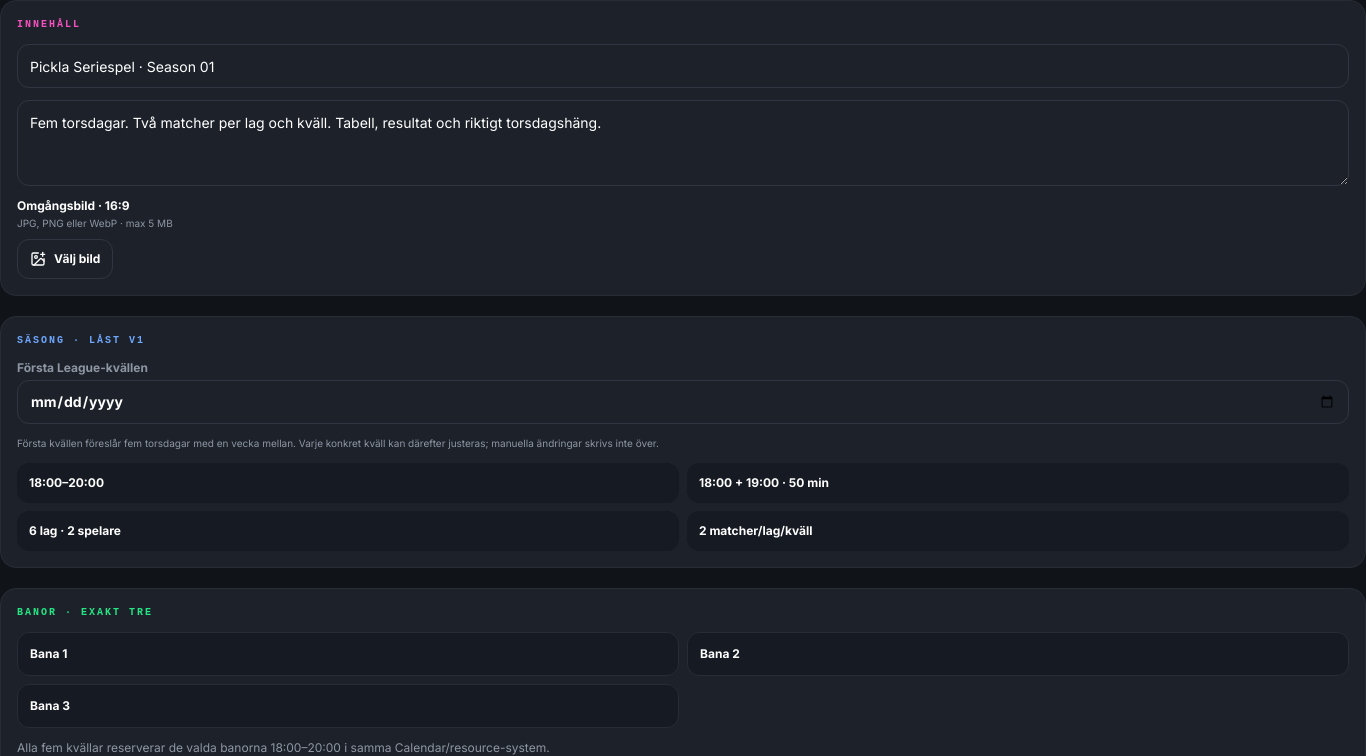
Test: League Admin artwork and date entry › starts with one date, proposes five Stockholm Thursdays, and preserves manual overrides
Expected: the field labelled "Kväll 2" is not shown
Type "2026-09-10" into the date field labelled "Första League-kvällen" at [683, 402], box [17,380,1349,424]
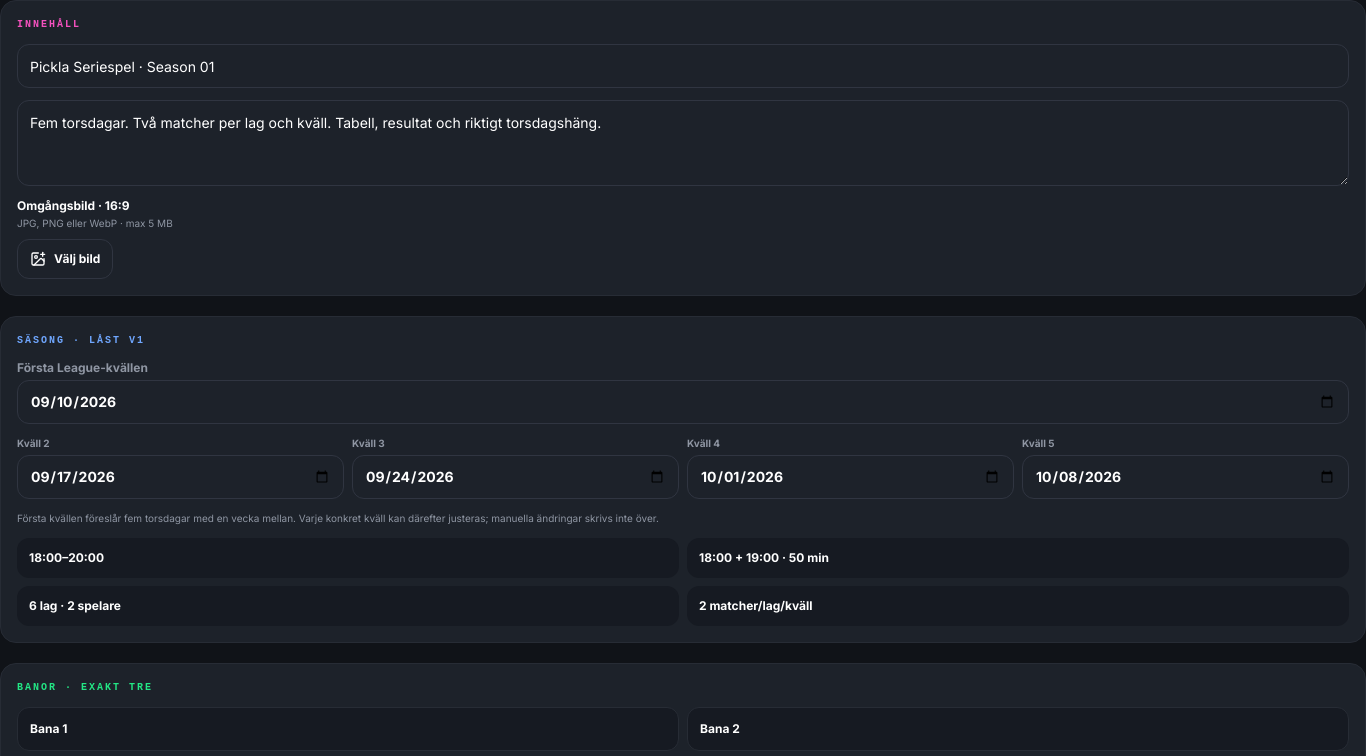
Expected: the date field labelled "Kväll 2" holds "2026-09-17", [17,455,344,499]
Expected: the date field labelled "Kväll 3" holds "2026-09-24", [352,455,679,499]
Expected: the date field labelled "Kväll 4" holds "2026-10-01", [687,455,1014,499]
Type "2026-10-22" into the date field labelled "Kväll 5" at [1186, 477], box [1022,455,1349,499]
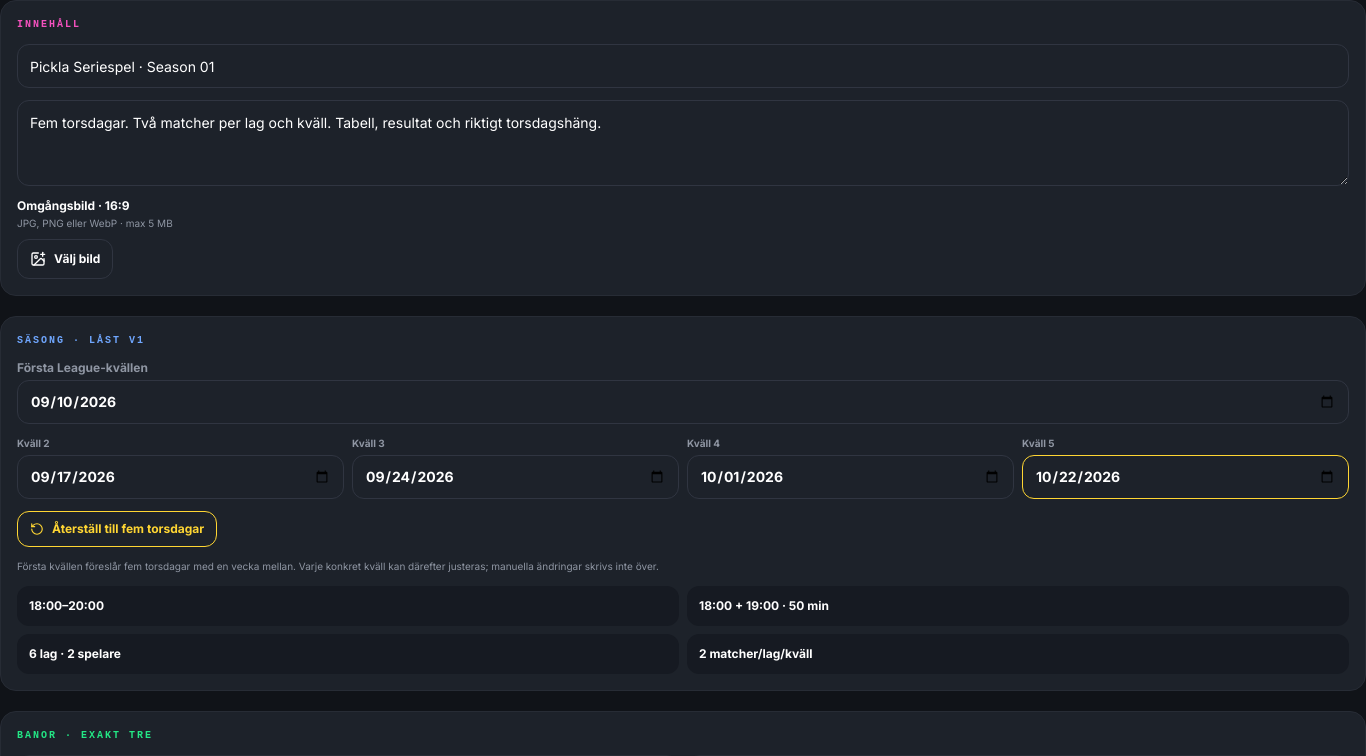
Type "2026-09-17" into the date field labelled "Första League-kvällen" at [683, 402], box [17,380,1349,424]
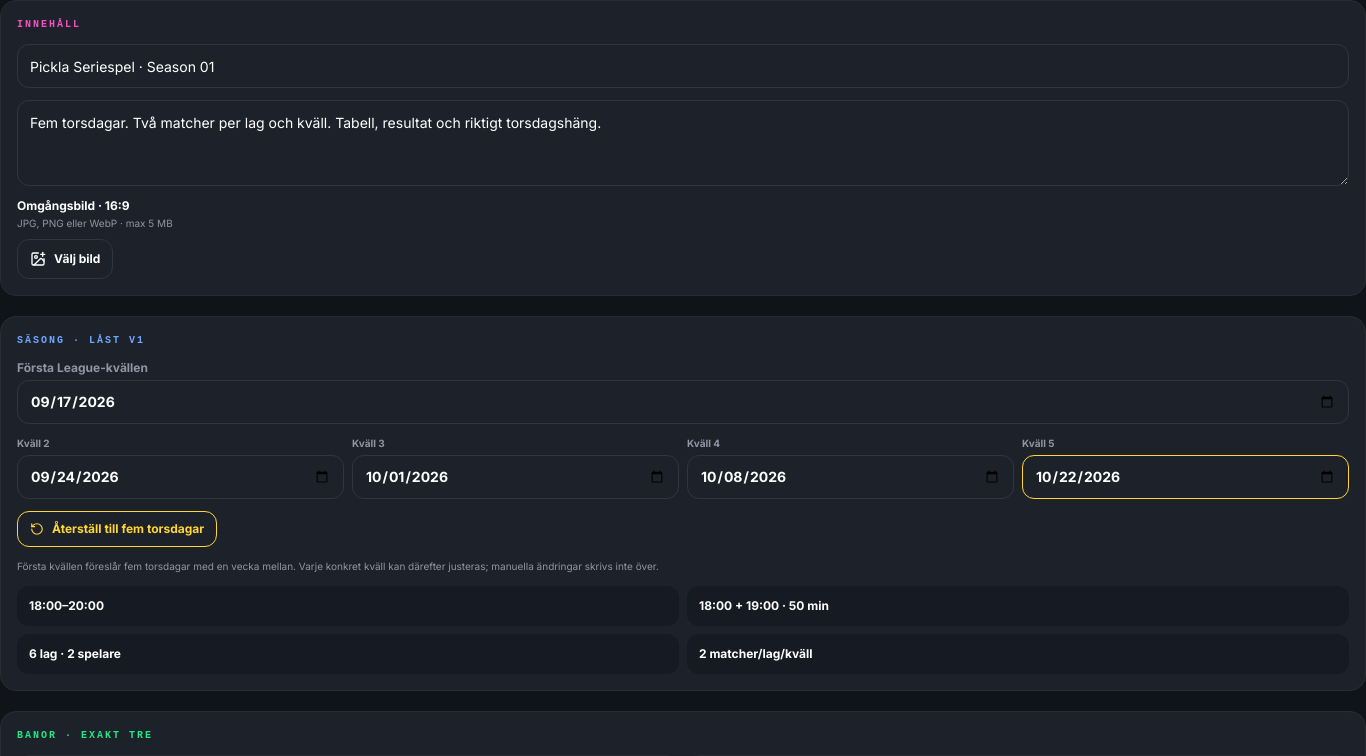
Expected: the date field labelled "Kväll 2" holds "2026-09-24", [17,455,344,499]
Click the button "Återställ till fem torsdagar" at [117, 529], box [17,511,217,547]
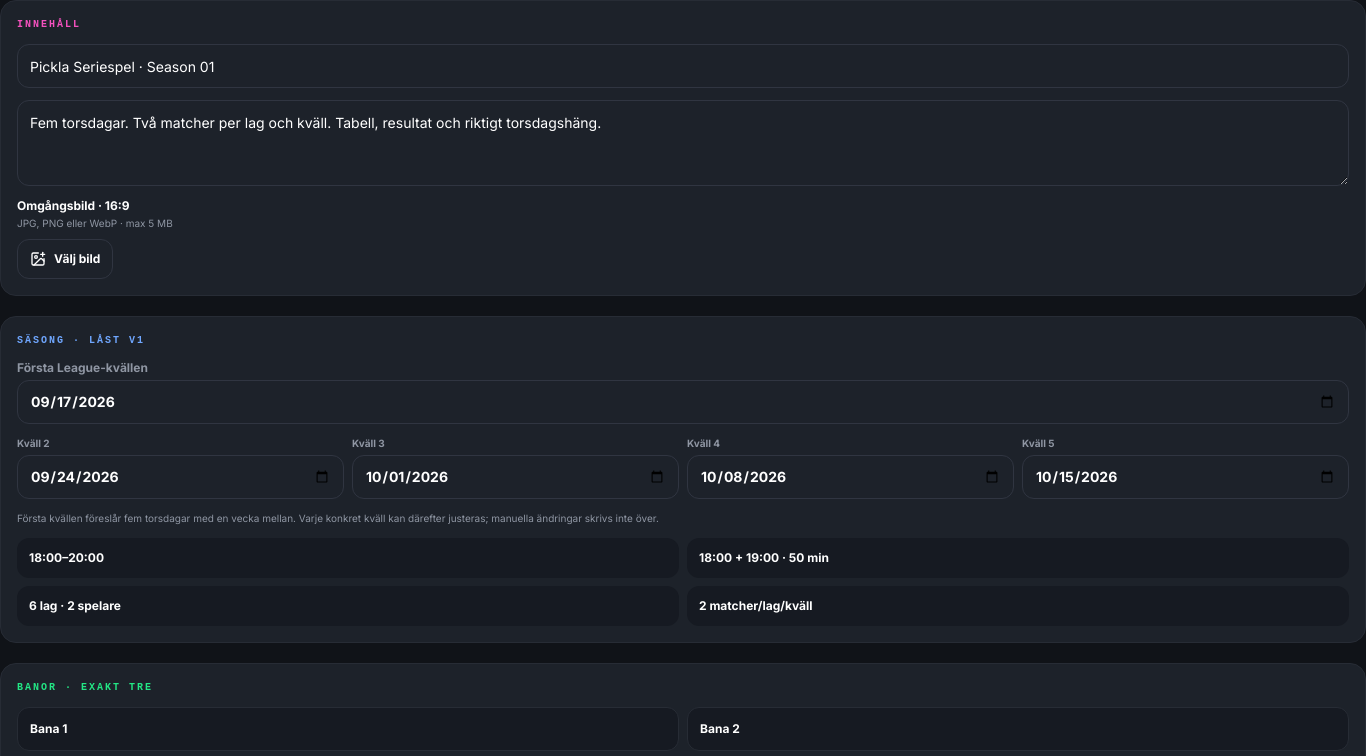
Expected: the date field labelled "Kväll 5" holds "2026-10-15", [1022,455,1349,499]
